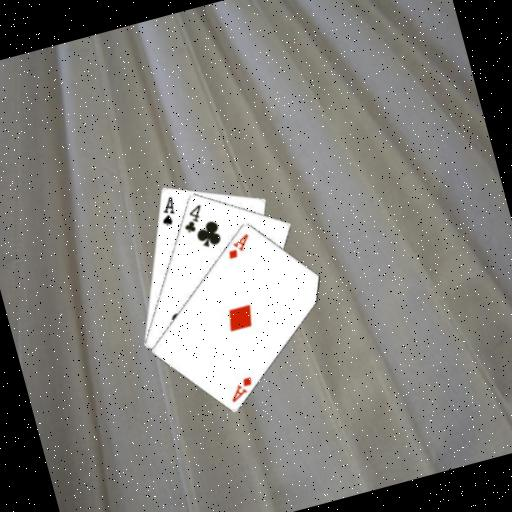4C: (176, 201, 208, 236)
AD: (220, 229, 255, 261), (223, 372, 257, 404)
AS: (153, 192, 181, 228)
